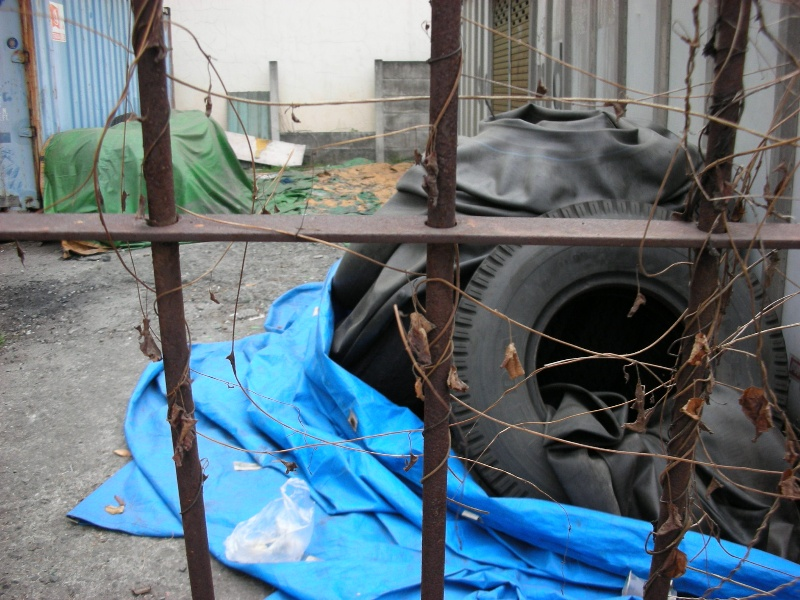plastic_bag: (207, 295, 421, 600), (457, 105, 696, 215), (42, 123, 148, 219), (171, 110, 252, 213), (252, 161, 411, 212)
tire: (454, 199, 788, 498)
